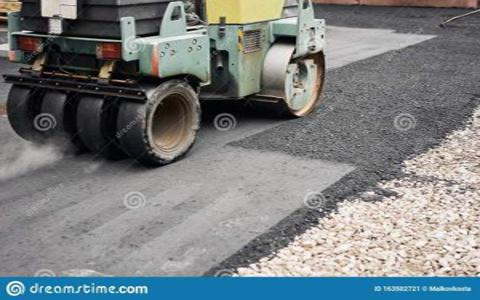Proper road: (90, 172, 270, 263)
